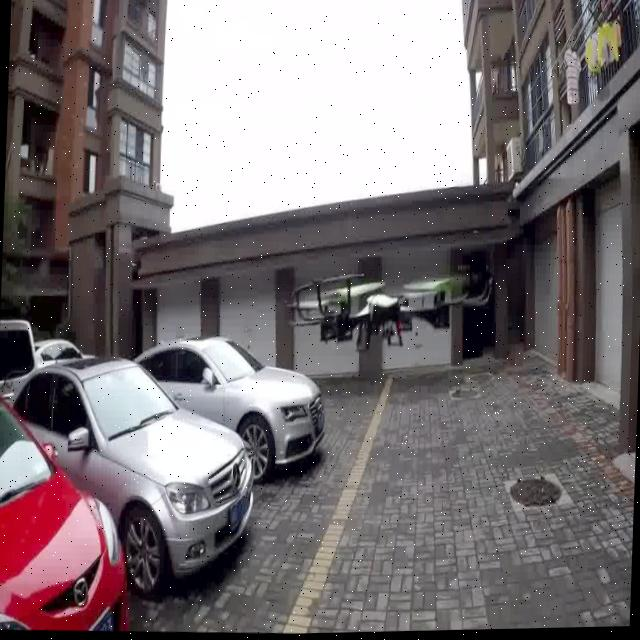drone: (291, 254, 493, 367)
